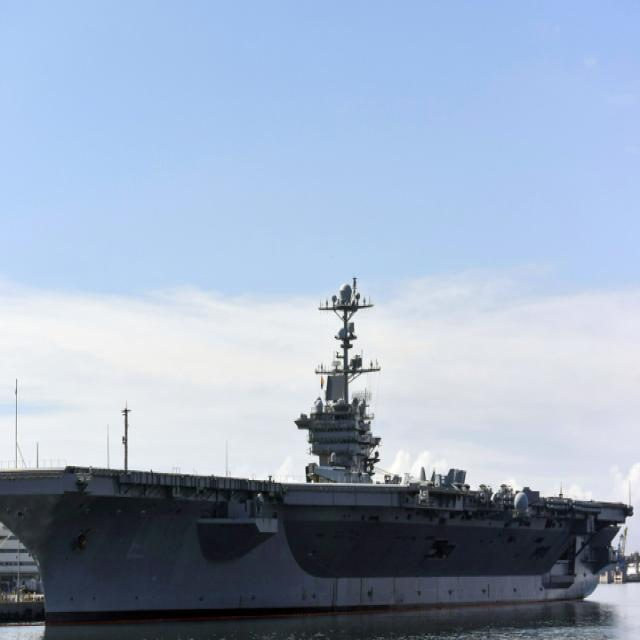Portanaves: (1, 272, 640, 632)
